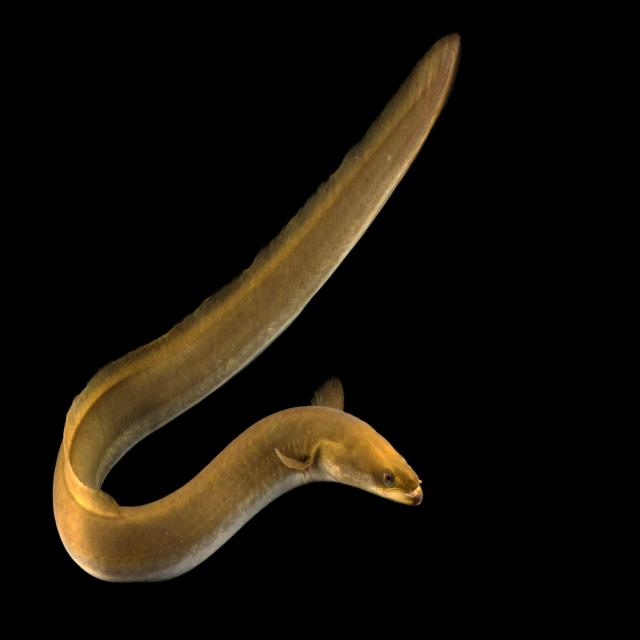Freshwater-Eel: (21, 0, 500, 640)
